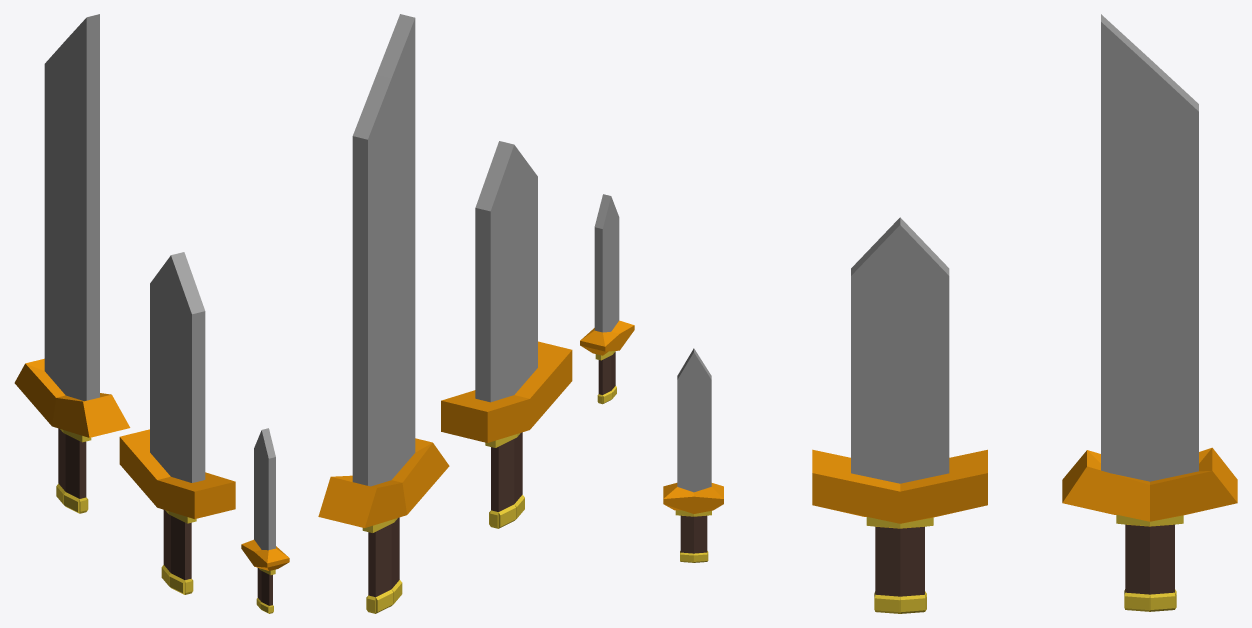
File: sword (1).fbx
The picture shows the model from 3 angles, left to right: view 1: azimuth 30°, elevation 25°; view 2: azimuth 150°, elevation 25°; view 3: azimuth 270°, elevation 25°; orthographic projection. The views are drawn at different scales.
Visible parts, largest first — view 1: Cube.001, Cube, Cube.003; view 2: Cube.001, Cube, Cube.003; view 3: Cube.001, Cube, Cube.003.
Part boxes in pixels (<box>): Cube.001: <box>14,14,130,513</box>; Cube: <box>119,252,235,594</box>; Cube.003: <box>241,428,289,613</box>; Cube.001: <box>318,14,449,613</box>; Cube: <box>441,141,572,528</box>; Cube.003: <box>580,194,634,404</box>; Cube.001: <box>1062,14,1237,611</box>; Cube: <box>812,217,987,613</box>; Cube.003: <box>663,348,723,562</box>.
Size of the model in its own units: 63.28 by 719 by 631.
